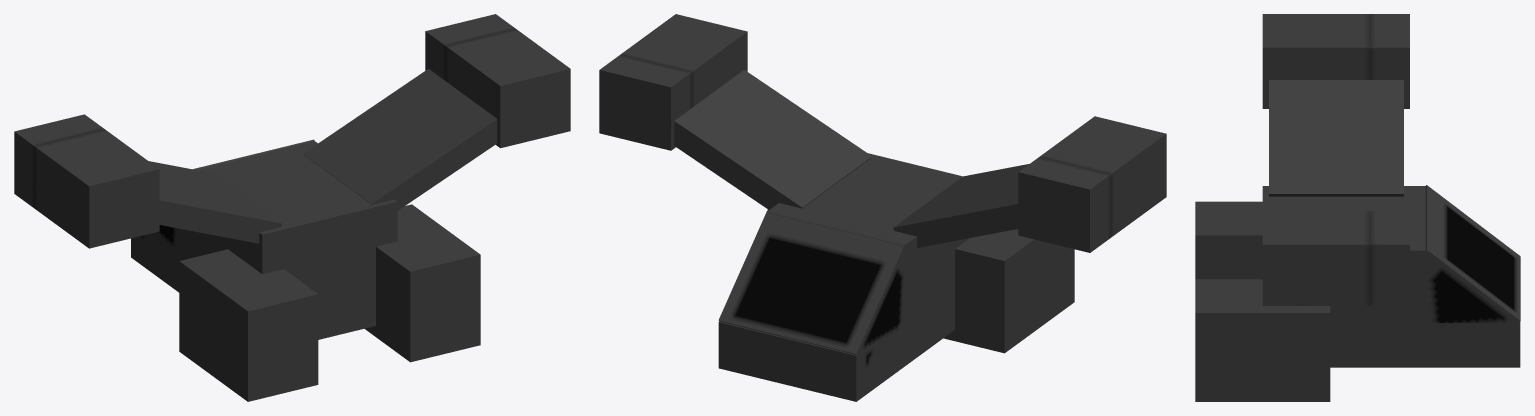
Rendered from SpaceShip 1.fbx.
The picture shows the model from 3 angles, left to right: view 1: azimuth 30°, elevation 25°; view 2: azimuth 150°, elevation 25°; view 3: azimuth 270°, elevation 25°; orthographic projection. The views are drawn at different scales.
Parts seen in each view (by area): view 1: cube, cube_3, cube_5, cube_7, cube_4, cube_8, cube_6, cube_1, cube_2; view 2: cube_2, cube_5, cube_7, cube, cube_8, cube_3, cube_1, cube_6; view 3: cube_6, cube_4, cube_8, cube, cube_2, cube_7, cube_3, cube_1.
Boxes of the visible parts, x1=… form: cube: x1=178, y1=141, x2=397, y2=339; cube_3: x1=179, y1=249, x2=318, y2=401; cube_5: x1=303, y1=69, x2=497, y2=210; cube_7: x1=14, y1=114, x2=159, y2=248; cube_4: x1=364, y1=204, x2=480, y2=362; cube_8: x1=425, y1=14, x2=570, y2=148; cube_6: x1=149, y1=161, x2=282, y2=243; cube_1: x1=131, y1=232, x2=177, y2=291; cube_2: x1=144, y1=139, x2=314, y2=266; cube_2: x1=718, y1=210, x2=925, y2=382; cube_5: x1=674, y1=70, x2=872, y2=209; cube_7: x1=1018, y1=116, x2=1166, y2=252; cube: x1=766, y1=153, x2=969, y2=366; cube_8: x1=599, y1=14, x2=747, y2=150; cube_3: x1=943, y1=229, x2=1074, y2=353; cube_1: x1=718, y1=321, x2=904, y2=401; cube_6: x1=893, y1=164, x2=1028, y2=247; cube_6: x1=1269, y1=80, x2=1403, y2=196; cube_4: x1=1195, y1=279, x2=1330, y2=401; cube_8: x1=1262, y1=211, x2=1409, y2=305; cube: x1=1262, y1=186, x2=1428, y2=367; cube_2: x1=1407, y1=185, x2=1520, y2=335; cube_7: x1=1262, y1=14, x2=1409, y2=108; cube_3: x1=1195, y1=201, x2=1262, y2=279; cube_1: x1=1416, y1=322, x2=1520, y2=367.
Bounding box in the file's own units: 556 × 244 × 331.
1 material, 1 textured.
